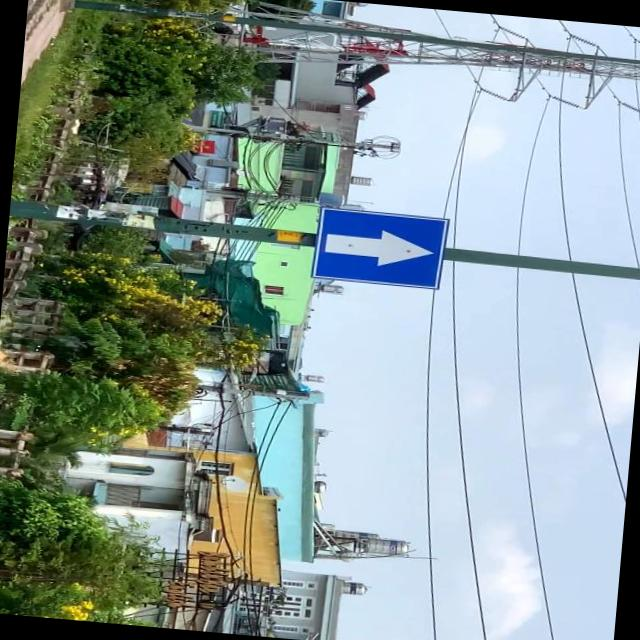I-407a: (314, 208, 446, 290)
